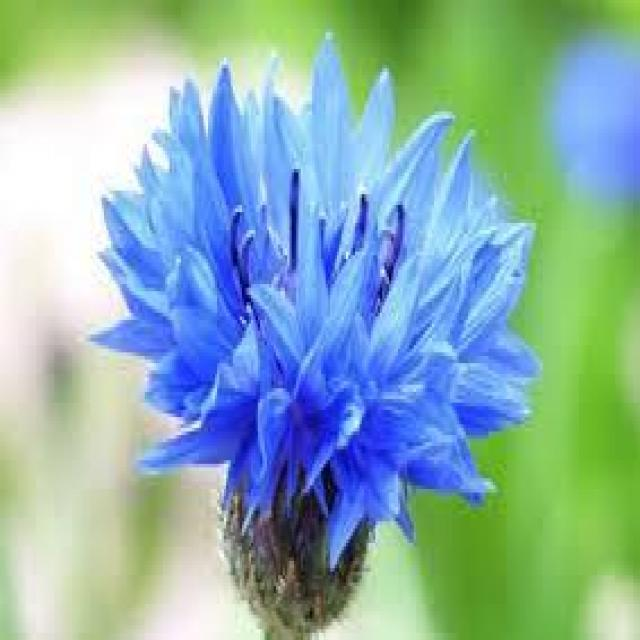organic waste: (91, 52, 542, 577)
